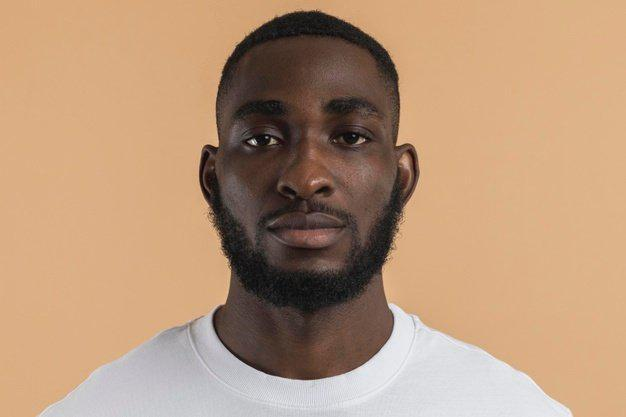Sober: (227, 52, 396, 280)
